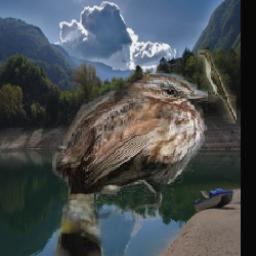Cuckoo: (198, 49, 237, 124)
Sparrow: (52, 71, 208, 256)
